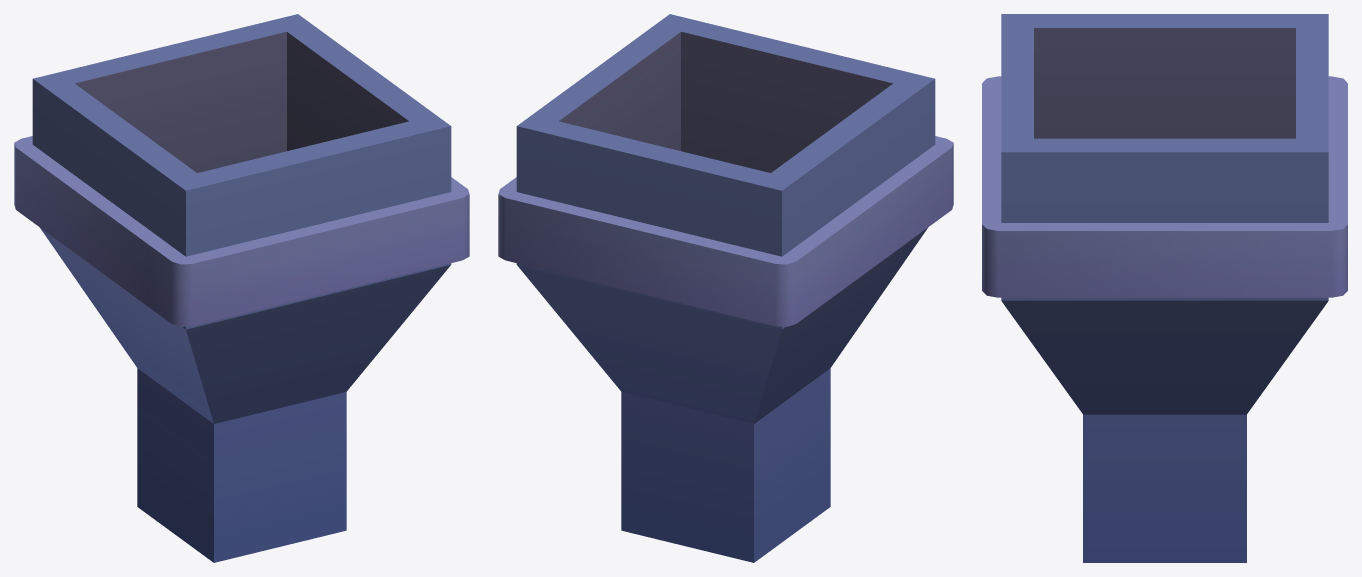
The model's file is hopper-high-square.glb.
The picture shows the model from 3 angles, left to right: view 1: azimuth 30°, elevation 25°; view 2: azimuth 150°, elevation 25°; view 3: azimuth 270°, elevation 25°; orthographic projection. The views are drawn at different scales.
Visible parts, largest first — view 1: hopper-high-square; view 2: hopper-high-square; view 3: hopper-high-square.
Boxes of the visible parts, x1,y1,x2,y2 form: hopper-high-square: [14, 14, 469, 562]; hopper-high-square: [498, 14, 953, 562]; hopper-high-square: [982, 14, 1347, 562].
Bounding box in the file's own units: 1.12 × 1.5 × 1.12.
1 material, 1 textured.
